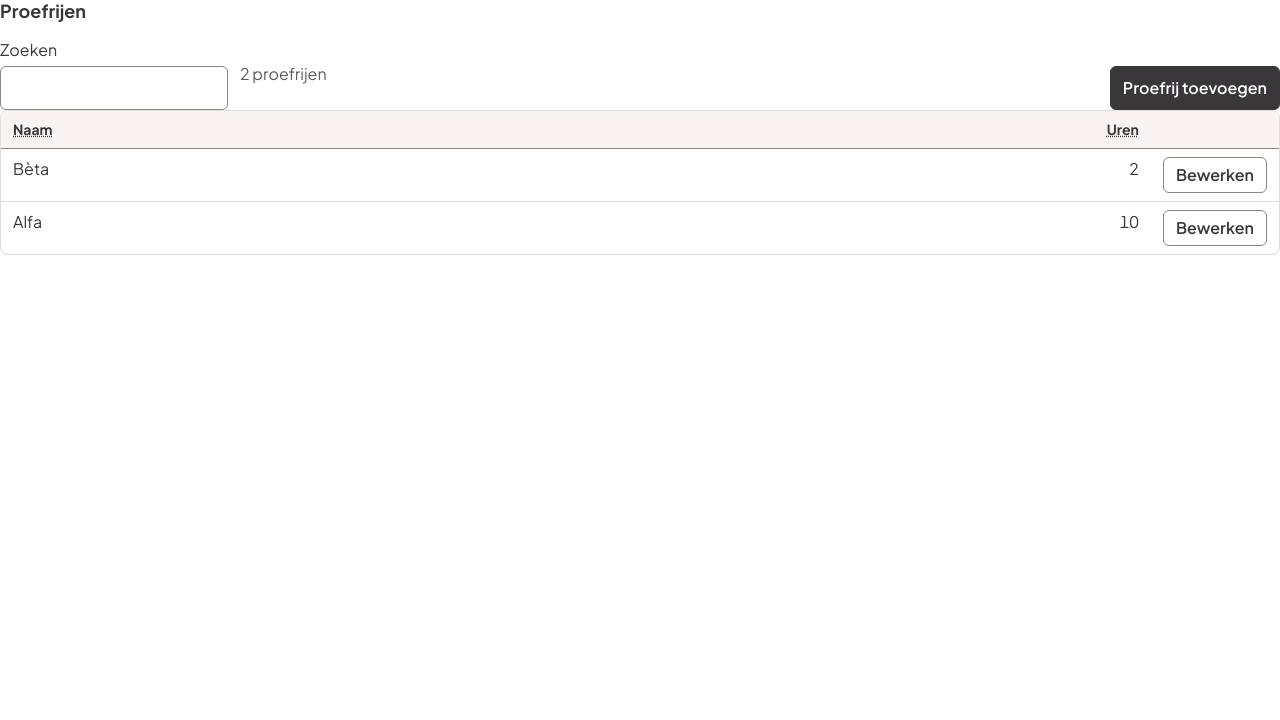
Test: BeheerScherm: zijpaneel › verwijderen vraagt om bevestiging en toont een toast
The width and height of the screenshot is (1280, 720).
Expected: the text "Alfa" is shown, x1=1 y1=201 x2=611 y2=254
Click the button with aria-label "Bewerken: Alfa": (1215, 228) x1=1163 y1=210 x2=1267 y2=246
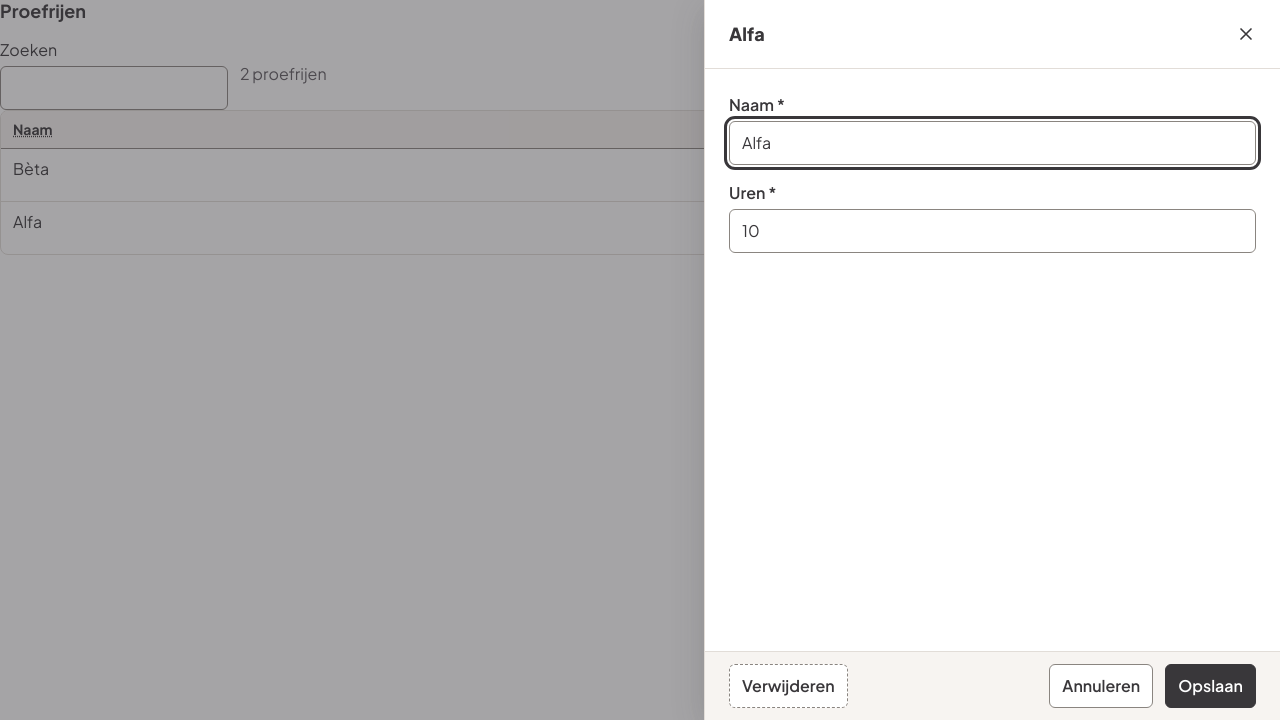
Click the button "Verwijderen": (788, 686) x1=729 y1=664 x2=848 y2=708
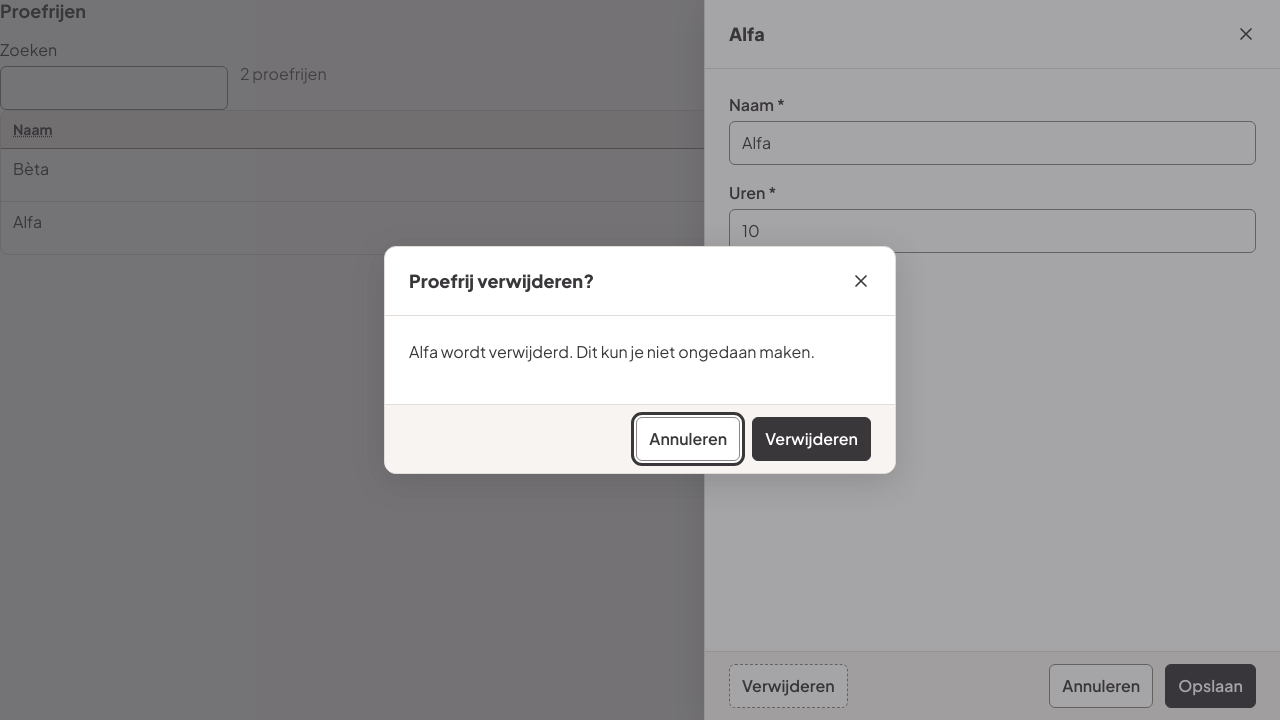
Expected: the dialog "Proefrij verwijderen?" shows "Alfa wordt verwijderd.", x1=409 y1=341 x2=815 y2=362
Click the button "Verwijderen": (812, 439) x1=752 y1=417 x2=871 y2=461
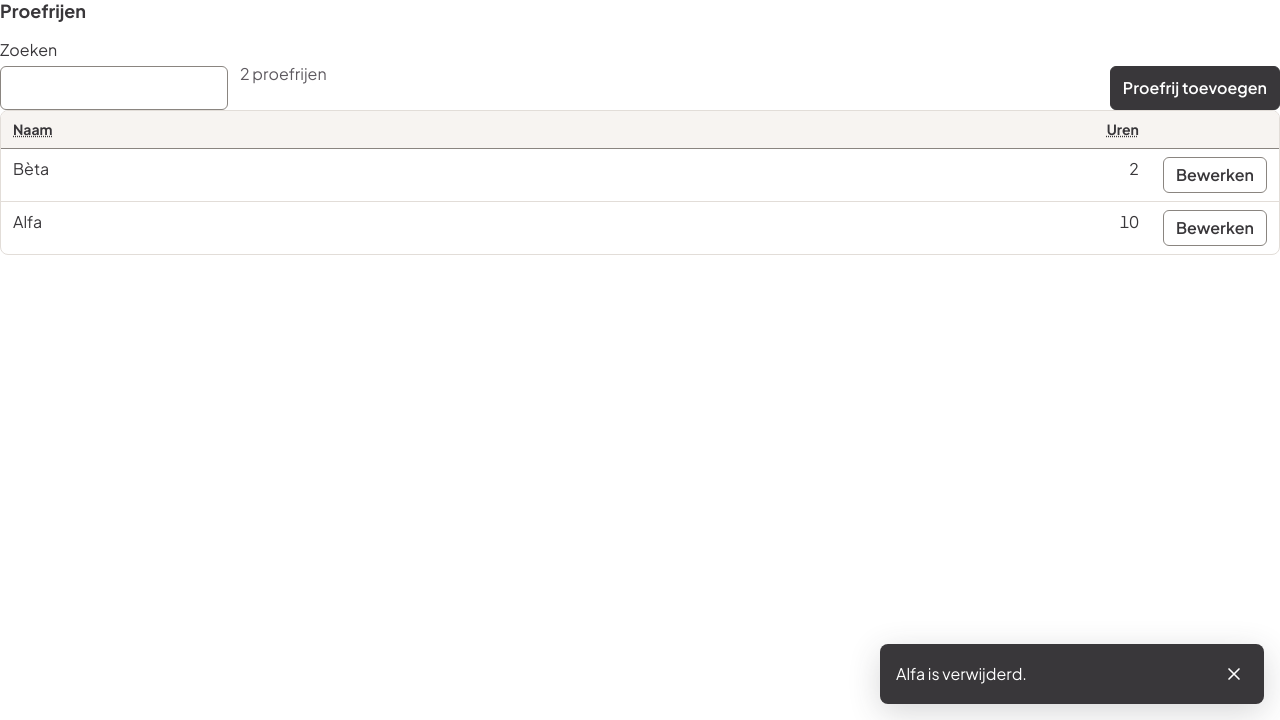
Expected: the text "Alfa is verwijderd." is shown, x1=896 y1=663 x2=1027 y2=684
